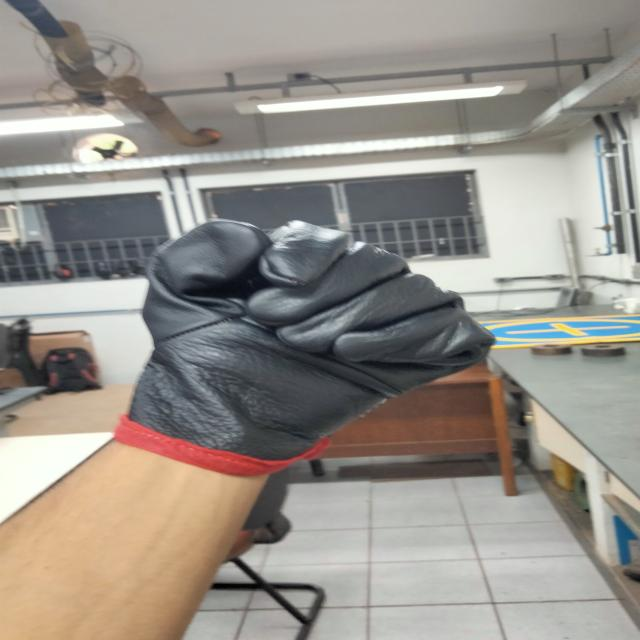Gloves: (112, 200, 485, 488)
